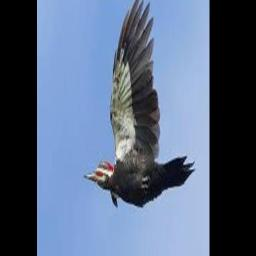Woodpecker: (83, 0, 195, 206)
